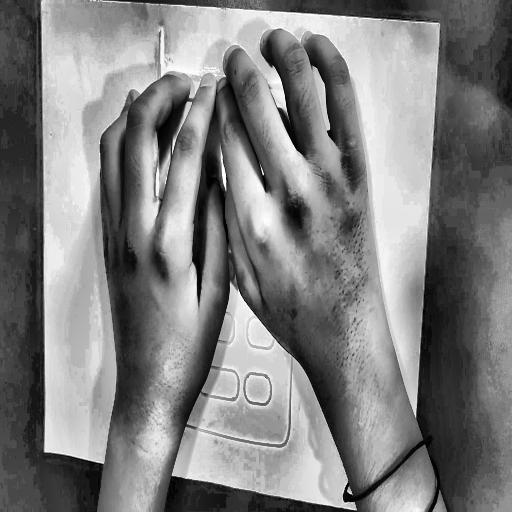bottom_left: (42, 447, 48, 457)
mobile: (148, 21, 309, 461)
top_right: (438, 20, 443, 29)
